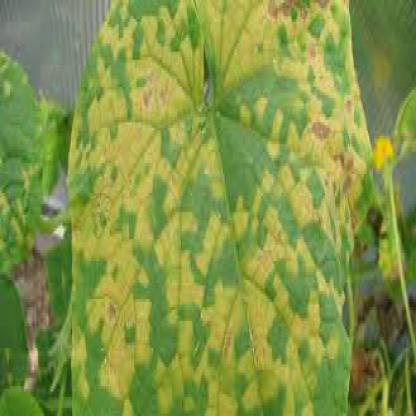DownyMildew: (71, 201, 250, 413), (212, 6, 370, 236), (214, 182, 356, 413), (68, 8, 202, 237)
